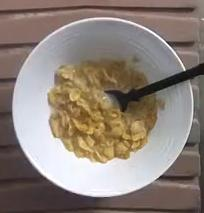cereal: (47, 60, 157, 161)
